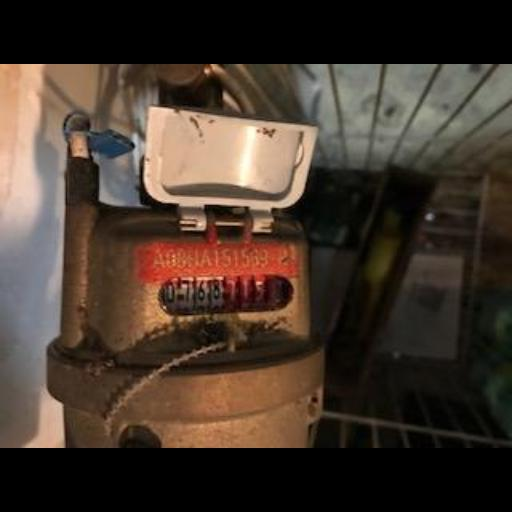0: (163, 277, 181, 311)
1: (239, 277, 253, 311)
5: (253, 277, 267, 311)
6: (195, 277, 209, 311)
7: (181, 277, 195, 311), (224, 277, 238, 311)
8: (210, 277, 224, 311)
border_water_meter_number: (158, 277, 294, 317)
